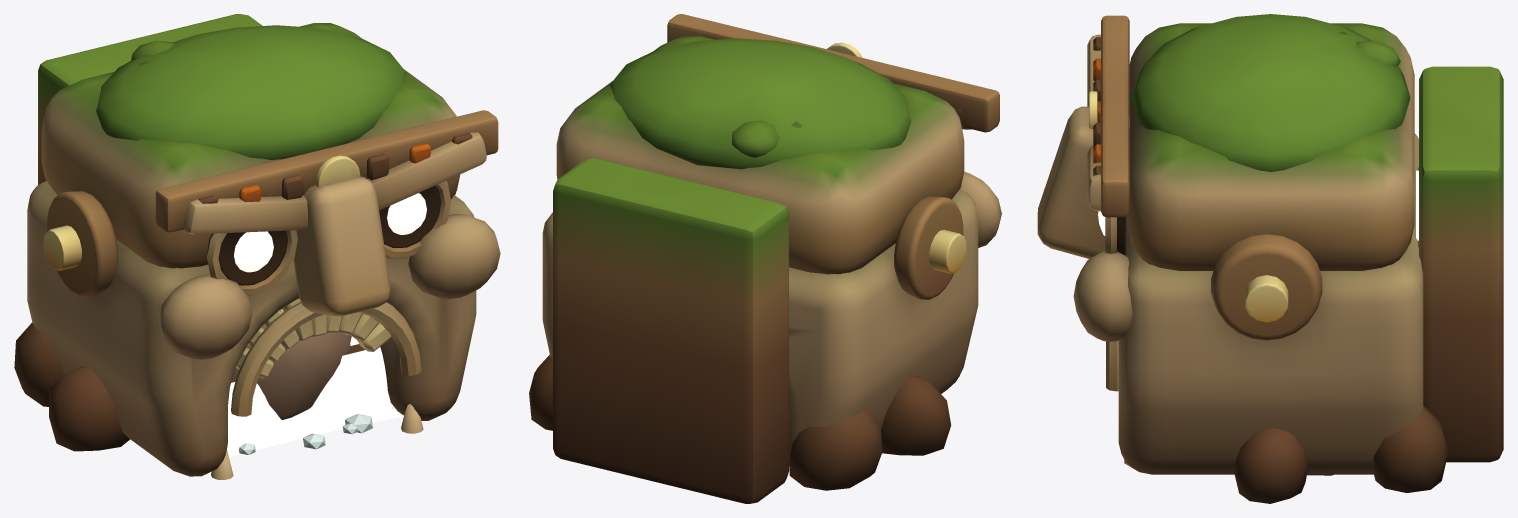
The model's file is props-temple.glb.
3 views of the same model, side by side, from view 1: azimuth 30°, elevation 25°; view 2: azimuth 150°, elevation 25°; view 3: azimuth 270°, elevation 25° (orthographic). The views are drawn at different scales.
Parts seen in each view (by area): view 1: prop-temple-head, prop-temple-waterfall, prop-temple-islet; view 2: prop-temple-head, prop-temple-waterfall; view 3: prop-temple-head, prop-temple-waterfall.
Part boxes in pixels (x1=…): prop-temple-head: x1=27, y1=23, x2=500, y2=479; prop-temple-waterfall: x1=14, y1=14, x2=403, y2=457; prop-temple-islet: x1=233, y1=308, x2=351, y2=419; prop-temple-head: x1=542, y1=14, x2=1001, y2=461; prop-temple-waterfall: x1=529, y1=158, x2=951, y2=503; prop-temple-head: x1=1037, y1=14, x2=1423, y2=474; prop-temple-waterfall: x1=1233, y1=66, x2=1503, y2=503.
Bounding box in the file's own units: 5.66 × 4.95 × 5.59.
